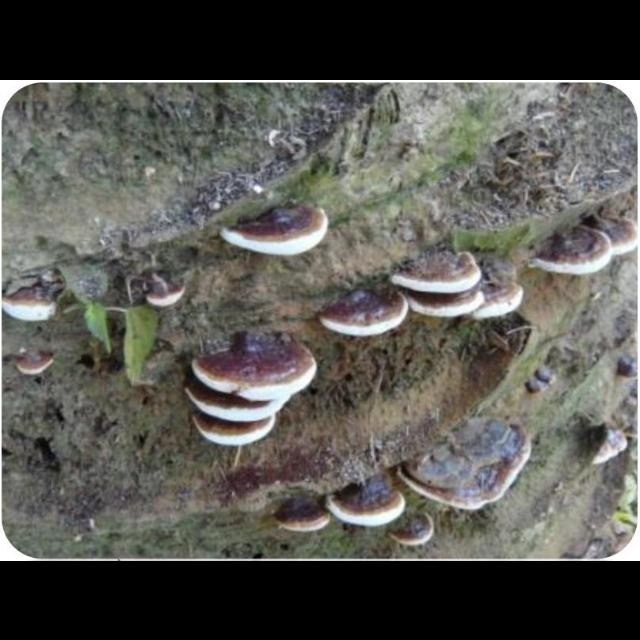ganoderma: (396, 411, 535, 511), (191, 327, 319, 402), (225, 202, 330, 259), (322, 287, 413, 340), (532, 224, 613, 277), (390, 247, 483, 293), (184, 386, 294, 424), (326, 482, 408, 529), (191, 415, 280, 450), (1, 279, 63, 323), (407, 287, 487, 320), (466, 282, 527, 321), (275, 499, 334, 533), (388, 512, 437, 546), (601, 215, 639, 257), (145, 271, 185, 308), (16, 348, 56, 376)
